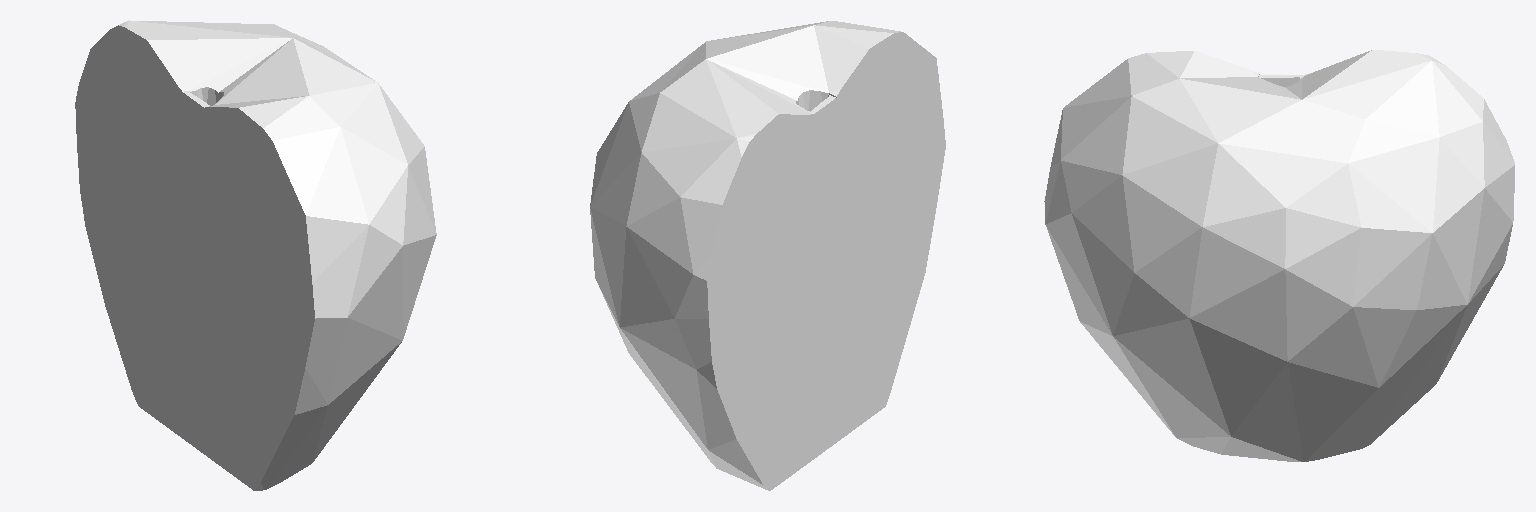
URDF robot description (cube.urdf):
<?xml version="0.0" ?>
<robot name="cube.urdf">
  <link name="baseLink">
    <contact>
      <lateral_friction value="0.3"/>
      <stiffness value="10000.0"/>
    </contact>
    <inertial>
      <origin rpy="0 0 0" xyz="0 0 0"/>
       <mass value="0.1"/>
       <inertia ixx="1" ixy="0" ixz="0" iyy="1" iyz="0" izz="1"/>
    </inertial>
    <visual>
      <origin rpy="0 0 0" xyz="0 0 0"/>
      <geometry>
            <mesh filename="apple_right.stl" scale="0.001 0.001 0.001"/>
      </geometry>
       <material name="white">
        <color rgba="1 1 1 1"/>
      </material>
    </visual>
    <collision>
      <origin rpy="0 0 0" xyz="0 0 0"/>
      <geometry>
	 	<mesh filename="apple_right.stl" scale="0.001 0.001 0.001"/>
      </geometry>
    </collision>
  </link>  
</robot>

--- Render facts (derived) ---
The picture shows the robot from 3 angles, left to right: view 1: azimuth 30°, elevation 25°; view 2: azimuth 150°, elevation 25°; view 3: azimuth 270°, elevation 25°; orthographic projection.
Robot: cube.urdf — 1 links, 0 joints (none); root link baseLink; default pose: every joint at zero.
Visible links, largest first — view 1: baseLink; view 2: baseLink; view 3: baseLink.
Link boxes in pixels (x1,y1,x2,y2): baseLink: (75, 20, 436, 490); baseLink: (590, 21, 945, 490); baseLink: (1044, 50, 1514, 461).
Bounding box of the posed robot: 0.0315 × 0.0627 × 0.0538 m (x, y, z).
1 mesh visuals loaded from 1 distinct referenced files (1 binary STL).